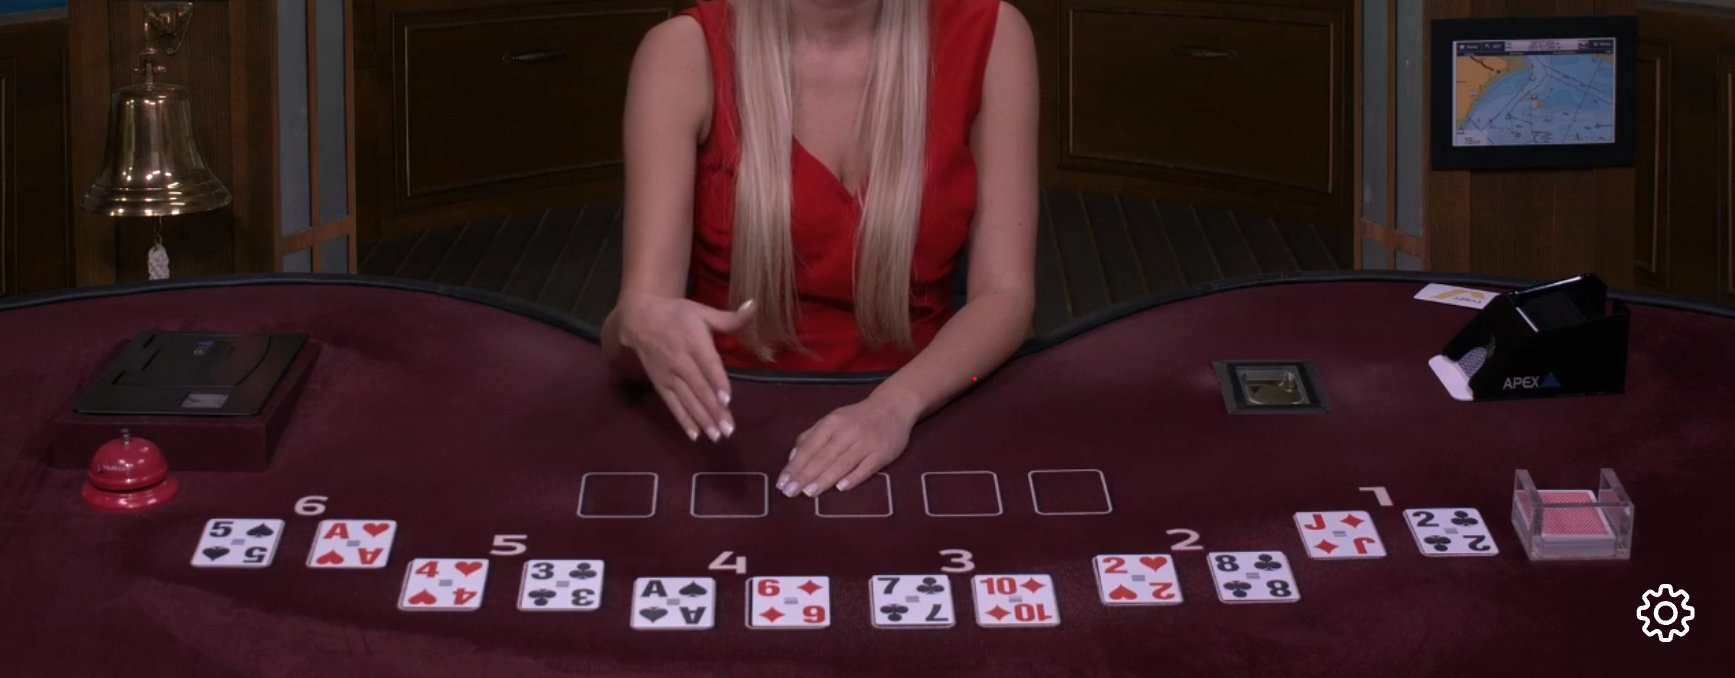10d: (970, 572, 1066, 630)
2c: (1400, 502, 1502, 562)
2h: (1094, 547, 1191, 611)
3c: (519, 551, 609, 615)
4h: (391, 553, 495, 616)
5s: (190, 512, 285, 572)
6d: (745, 573, 837, 636)
7c: (867, 570, 958, 633)
8c: (1205, 547, 1303, 603)
ash: (307, 511, 401, 573)
ass: (631, 572, 714, 629)
jd: (1291, 505, 1390, 564)
